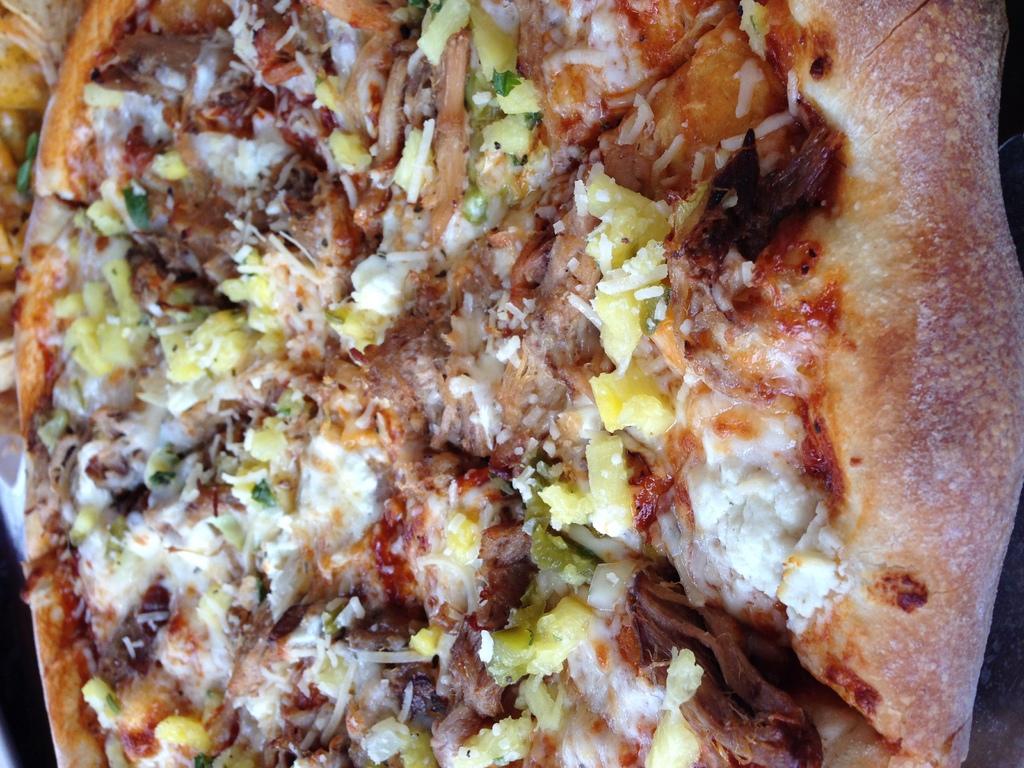Pizza: (0, 28, 1024, 768)
